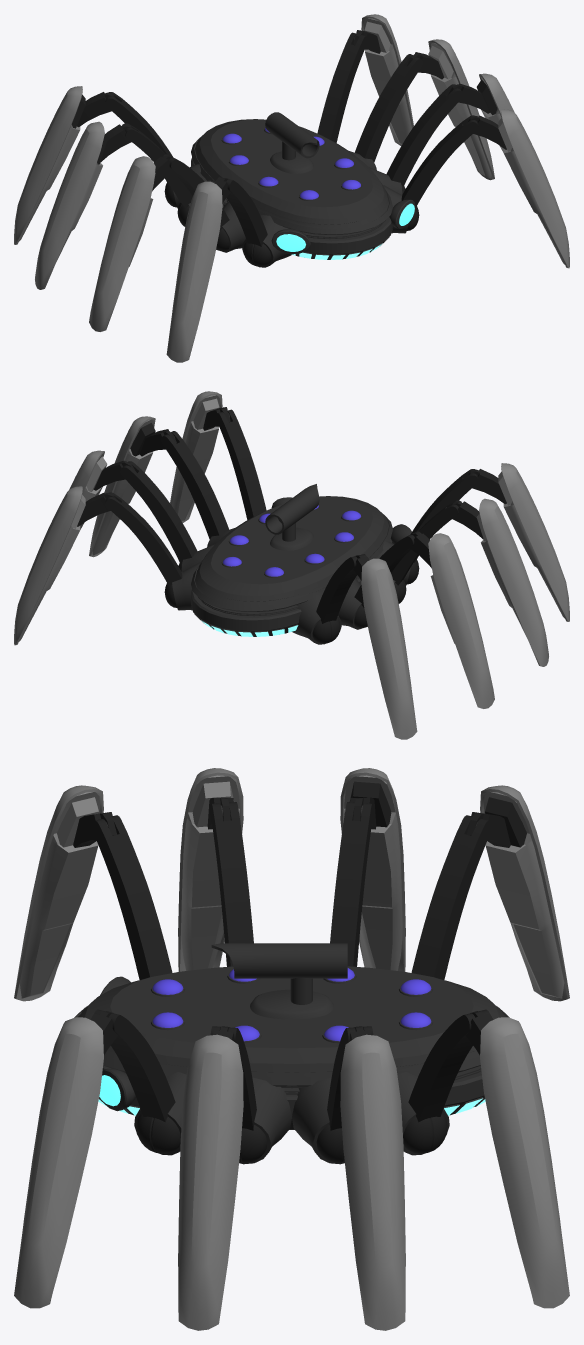
File: spibotaaAAAAAAA.fbx
3 renders of one model, top to bottom at view 1: azimuth 30°, elevation 25°; view 2: azimuth 150°, elevation 25°; view 3: azimuth 270°, elevation 25°, orthographic. The views are drawn at different scales.
Parts seen in each view (by area): view 1: CORPS, spiderbot_Mats.028, spiderbot_Mats.074, spiderbot_Mats.027, spiderbot_Mats.077, spiderbot_Mats.040, spiderbot_Mats.031, spiderbot_Mats.081, spiderbot_Mats.071, spiderbot_Mats.070, spiderbot_Mats.073, spiderbot_Mats.064 (+5 smaller); view 2: CORPS, spiderbot_Mats.077, spiderbot_Mats.027, spiderbot_Mats.074, spiderbot_Mats.028, spiderbot_Mats.081, spiderbot_Mats.038, spiderbot_Mats.040, spiderbot_Mats.070, spiderbot_Mats.071, spiderbot_Mats.064, spiderbot_Mats.073 (+5 smaller); view 3: CORPS, spiderbot_Mats.031, spiderbot_Mats.038, spiderbot_Mats.040, spiderbot_Mats.081, spiderbot_Mats.028, spiderbot_Mats.077, spiderbot_Mats.027, spiderbot_Mats.074, spiderbot_Mats.060, spiderbot_Mats.061, spiderbot_Mats.064 (+5 smaller).
Boxes of the visible parts, x1=… form: CORPS: x1=173, y1=112, x2=415, y2=267; spiderbot_Mats.028: x1=166, y1=178, x2=230, y2=362; spiderbot_Mats.074: x1=89, y1=155, x2=173, y2=331; spiderbot_Mats.027: x1=35, y1=121, x2=131, y2=289; spiderbot_Mats.077: x1=14, y1=86, x2=115, y2=244; spiderbot_Mats.040: x1=468, y1=109, x2=569, y2=268; spiderbot_Mats.031: x1=407, y1=39, x2=494, y2=180; spiderbot_Mats.081: x1=353, y1=14, x2=413, y2=145; spiderbot_Mats.071: x1=355, y1=54, x2=422, y2=170; spiderbot_Mats.070: x1=386, y1=84, x2=463, y2=194; spiderbot_Mats.073: x1=317, y1=32, x2=367, y2=142; spiderbot_Mats.064: x1=401, y1=115, x2=478, y2=230; CORPS: x1=172, y1=484, x2=411, y2=644; spiderbot_Mats.077: x1=353, y1=555, x2=417, y2=739; spiderbot_Mats.027: x1=410, y1=532, x2=494, y2=708; spiderbot_Mats.074: x1=452, y1=498, x2=548, y2=666; spiderbot_Mats.028: x1=468, y1=463, x2=569, y2=621; spiderbot_Mats.081: x1=14, y1=486, x2=115, y2=645; spiderbot_Mats.038: x1=89, y1=416, x2=176, y2=557; spiderbot_Mats.040: x1=170, y1=391, x2=230, y2=522; spiderbot_Mats.070: x1=161, y1=431, x2=228, y2=547; spiderbot_Mats.071: x1=120, y1=461, x2=197, y2=571; spiderbot_Mats.064: x1=216, y1=409, x2=266, y2=519; spiderbot_Mats.073: x1=105, y1=492, x2=182, y2=607; CORPS: x1=74, y1=943, x2=509, y2=1164; spiderbot_Mats.031: x1=340, y1=1026, x2=405, y2=1330; spiderbot_Mats.038: x1=178, y1=1026, x2=243, y2=1330; spiderbot_Mats.040: x1=14, y1=1011, x2=117, y2=1308; spiderbot_Mats.081: x1=466, y1=1011, x2=569, y2=1308; spiderbot_Mats.028: x1=14, y1=785, x2=117, y2=1001; spiderbot_Mats.077: x1=466, y1=785, x2=569, y2=1001; spiderbot_Mats.027: x1=340, y1=768, x2=405, y2=971; spiderbot_Mats.074: x1=178, y1=768, x2=243, y2=971; spiderbot_Mats.060: x1=92, y1=815, x2=172, y2=979; spiderbot_Mats.061: x1=411, y1=815, x2=491, y2=979; spiderbot_Mats.064: x1=94, y1=1009, x2=180, y2=1153.
Size of the model in its own units: 455 by 150 by 301.
